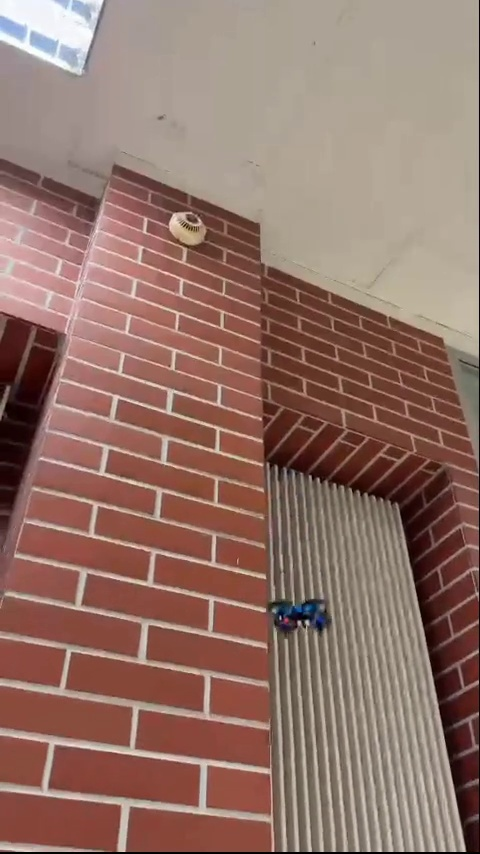drone: (270, 593, 326, 634)
